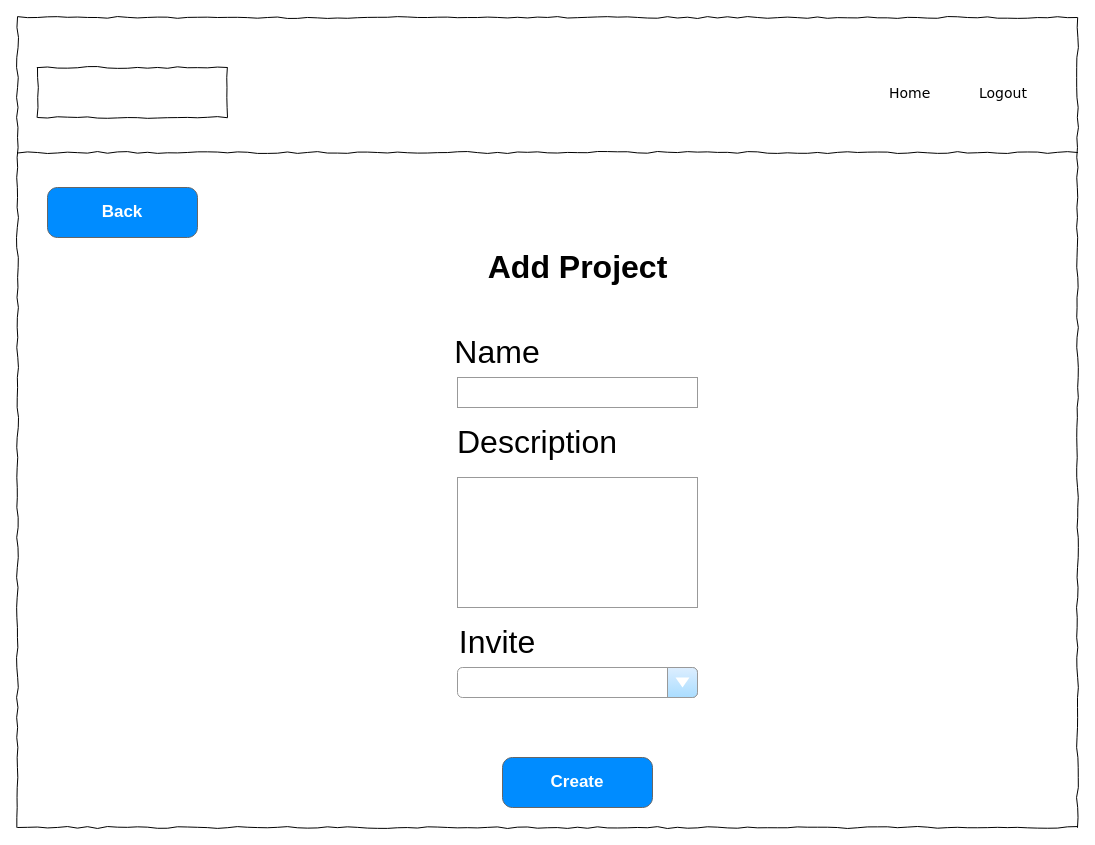
Some shapes in this 1095 by 845 pixel diagram are drawn without their labels. The centre of each missing label's shape, as x and y in pixels:
"LOGO" belongs at pixel 132 92.
"UserOne" belongs at pixel 577 682.
